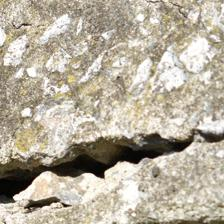Crack: (1, 60, 221, 151)
